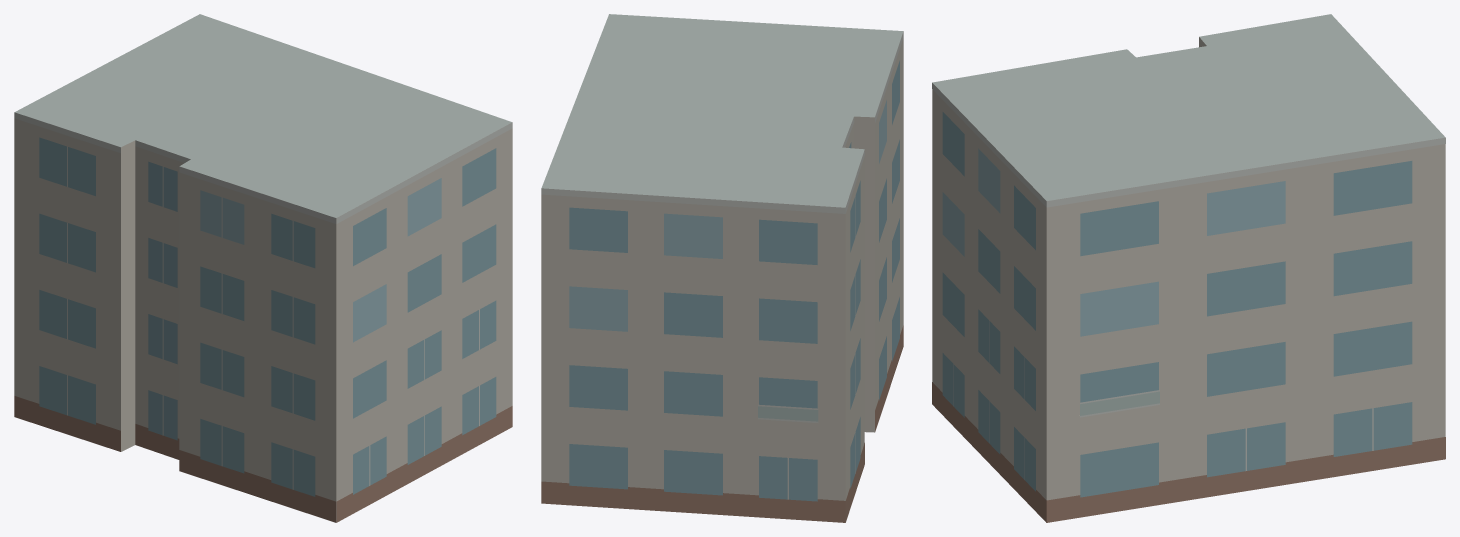
File: survey-upis-32856919.glb
The picture shows the model from 3 angles, left to right: view 1: azimuth 30°, elevation 25°; view 2: azimuth 150°, elevation 25°; view 3: azimuth 270°, elevation 25°; orthographic projection. The views are drawn at different scales.
Parts seen in each view (by area): view 1: survey-upis-32856919.tmp; view 2: survey-upis-32856919.tmp; view 3: survey-upis-32856919.tmp.
Boxes of the visible parts, x1=… form: survey-upis-32856919.tmp: x1=14, y1=14, x2=512, y2=522; survey-upis-32856919.tmp: x1=541, y1=14, x2=903, y2=522; survey-upis-32856919.tmp: x1=932, y1=14, x2=1445, y2=522.
Bounding box in the file's own units: 15.36 × 12.3 × 17.81.
